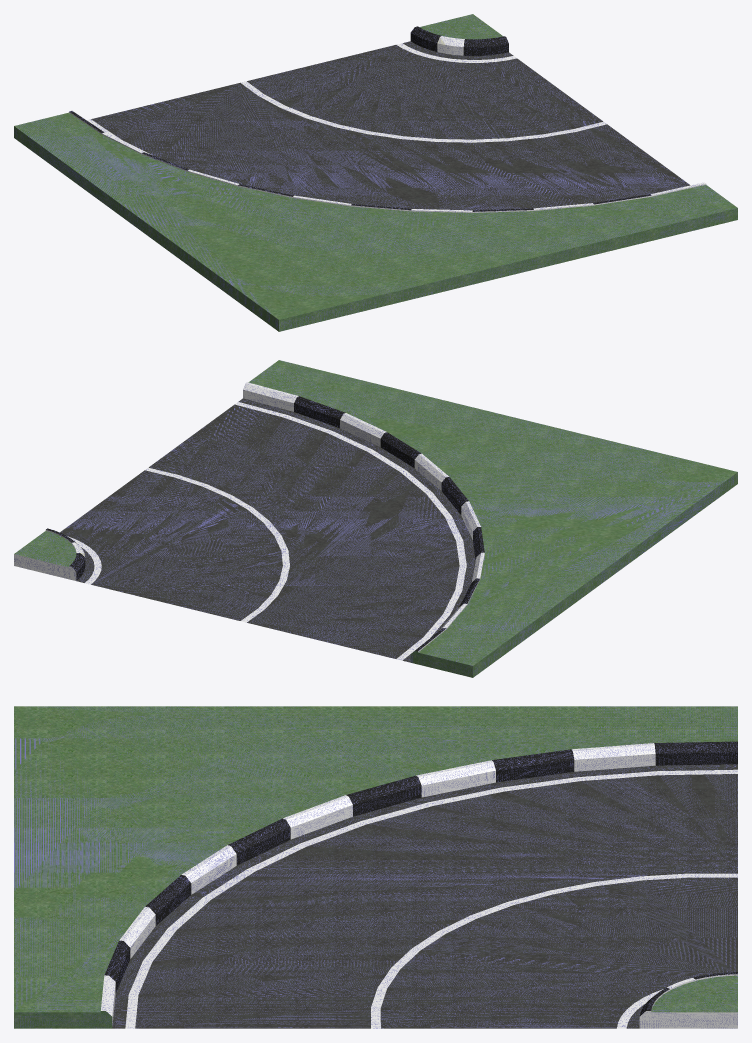
The picture shows the model from 3 angles, top to bottom: view 1: azimuth 30°, elevation 25°; view 2: azimuth 150°, elevation 25°; view 3: azimuth 270°, elevation 25°; orthographic projection. The views are drawn at different scales.
Visible parts, largest first — view 1: SketchUp (×8); view 2: SketchUp (×11); view 3: SketchUp (×15).
Boxes of the visible parts, x1,y1,x2,y2 form: SketchUp (×8): [14, 14, 737, 331]; SketchUp (×11): [14, 360, 737, 677]; SketchUp (×15): [14, 706, 737, 1028].
Size of the model in its own units: 442 by 442 by 12.
Materials: 6 (2 with a texture image).
